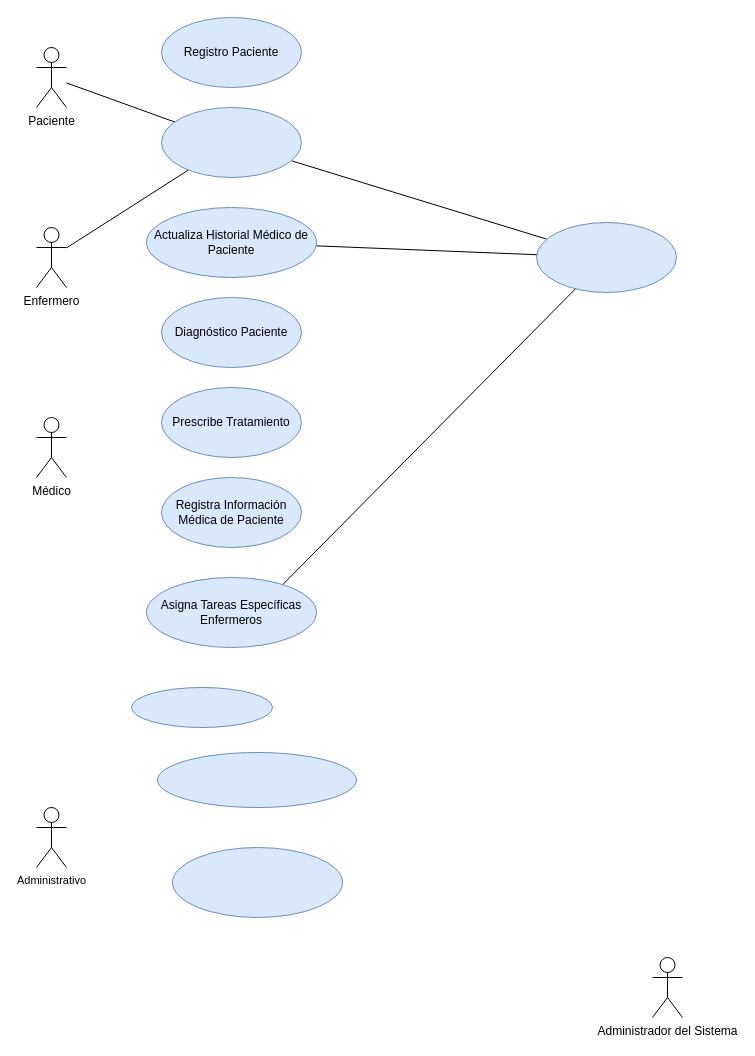
Image size: 755x1056. Some labels were removed from this diagram. The box of each missing label's shape, as (x1, y1, x2, y2) in pixels:
Autenticación: (536, 222, 676, 292)
Configuraciones y actualizaciones del sistema: (172, 846, 342, 918)
Facturación: (130, 686, 272, 728)
Procesamiento Seguro Médico: (156, 752, 356, 808)
Programar Cita Médica: (160, 106, 302, 178)
